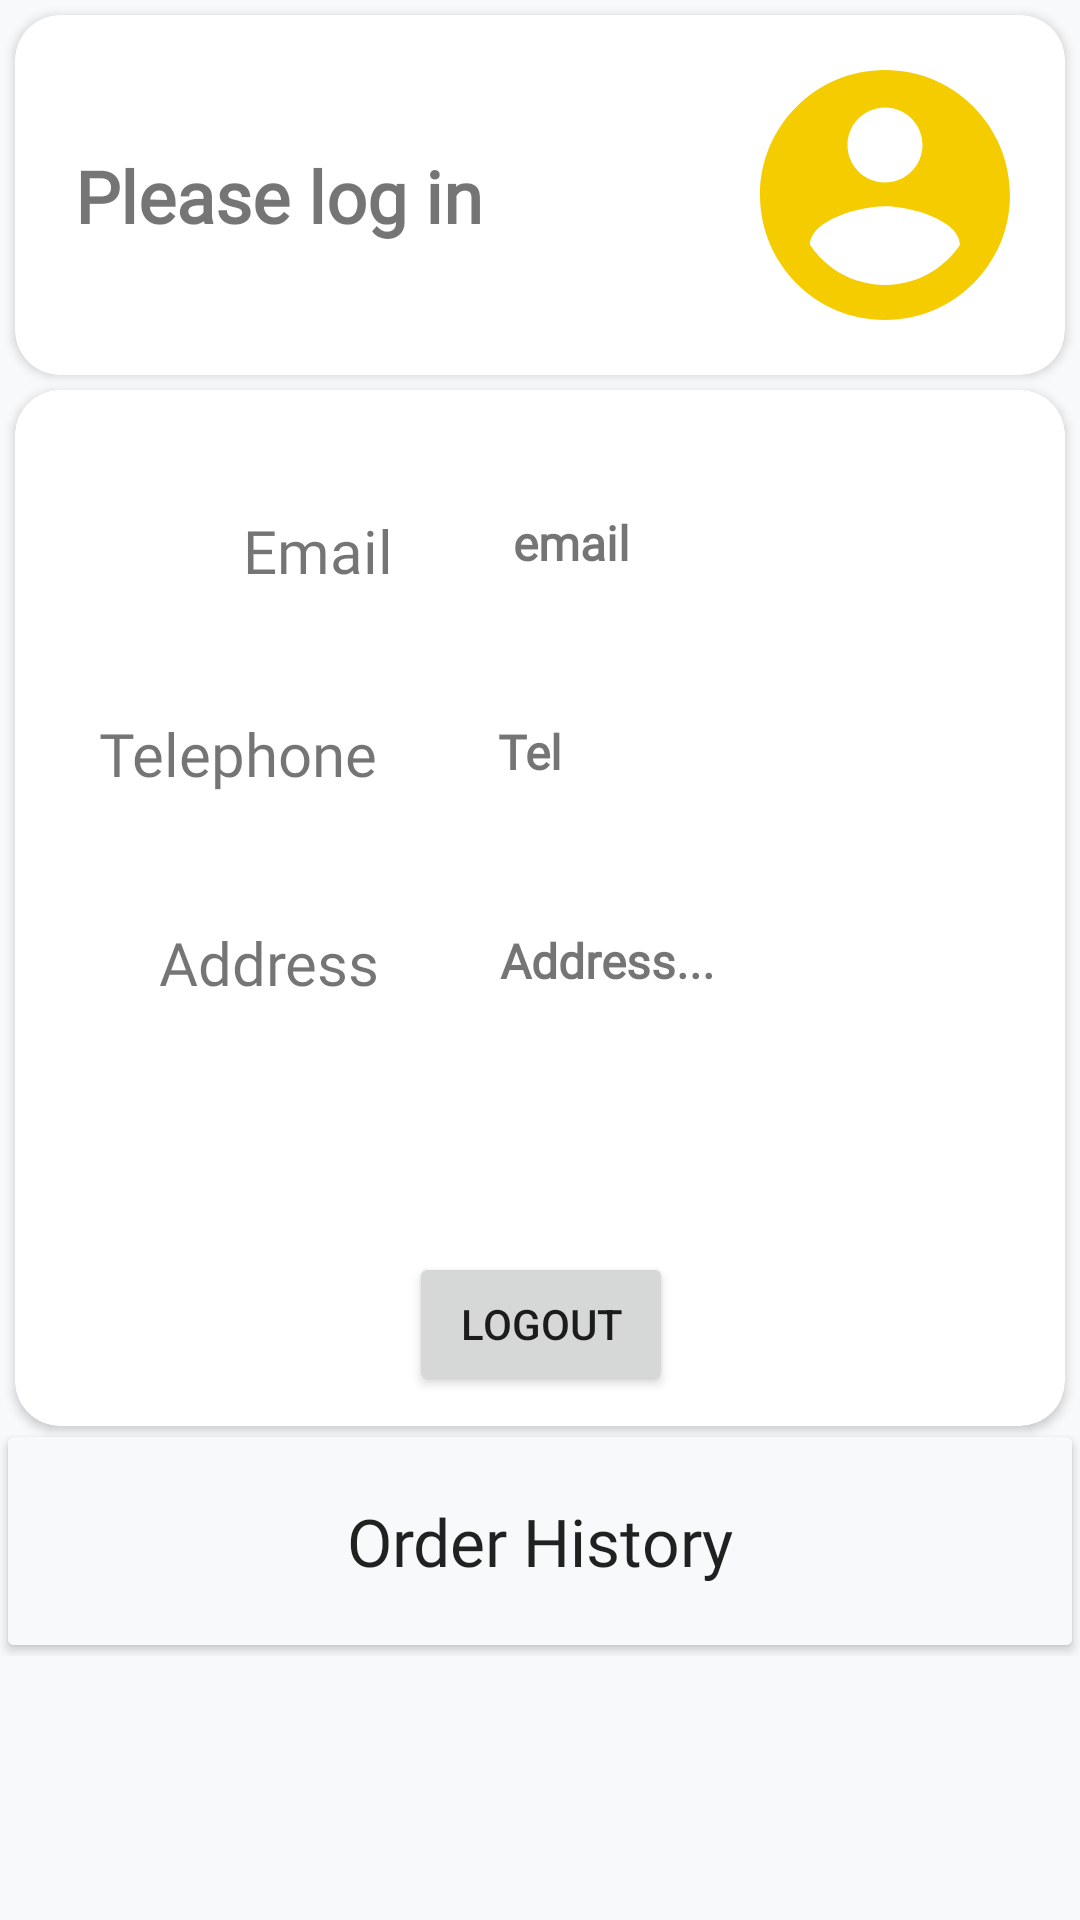

Icons on this 1080*1920 Android screen, each with the point to tap as (x,y):
profile pic: (885,195)
